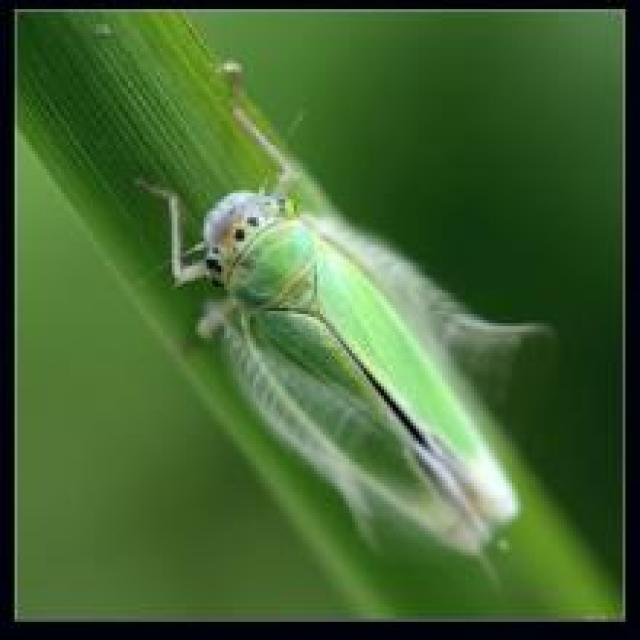Yechan: (169, 156, 526, 554)
